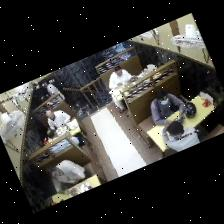person: (48, 160, 91, 193), (151, 90, 184, 125), (163, 120, 199, 151), (109, 66, 132, 113), (43, 81, 68, 103), (46, 110, 71, 129), (51, 141, 69, 153)
